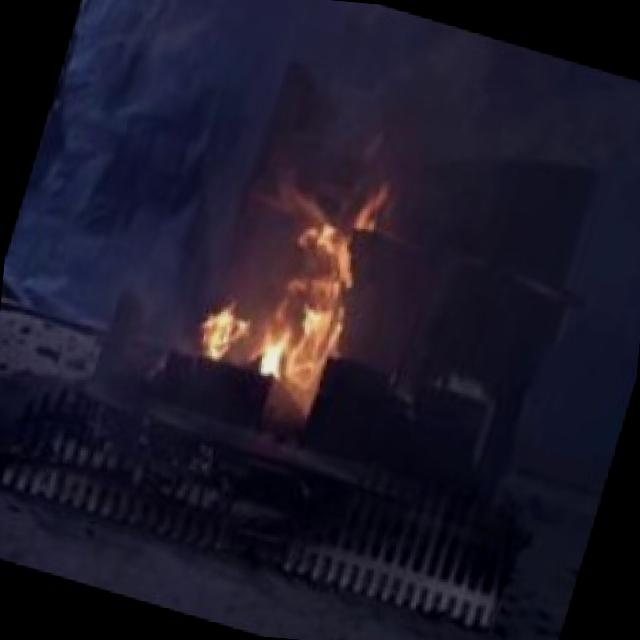fire: (182, 151, 400, 412)
